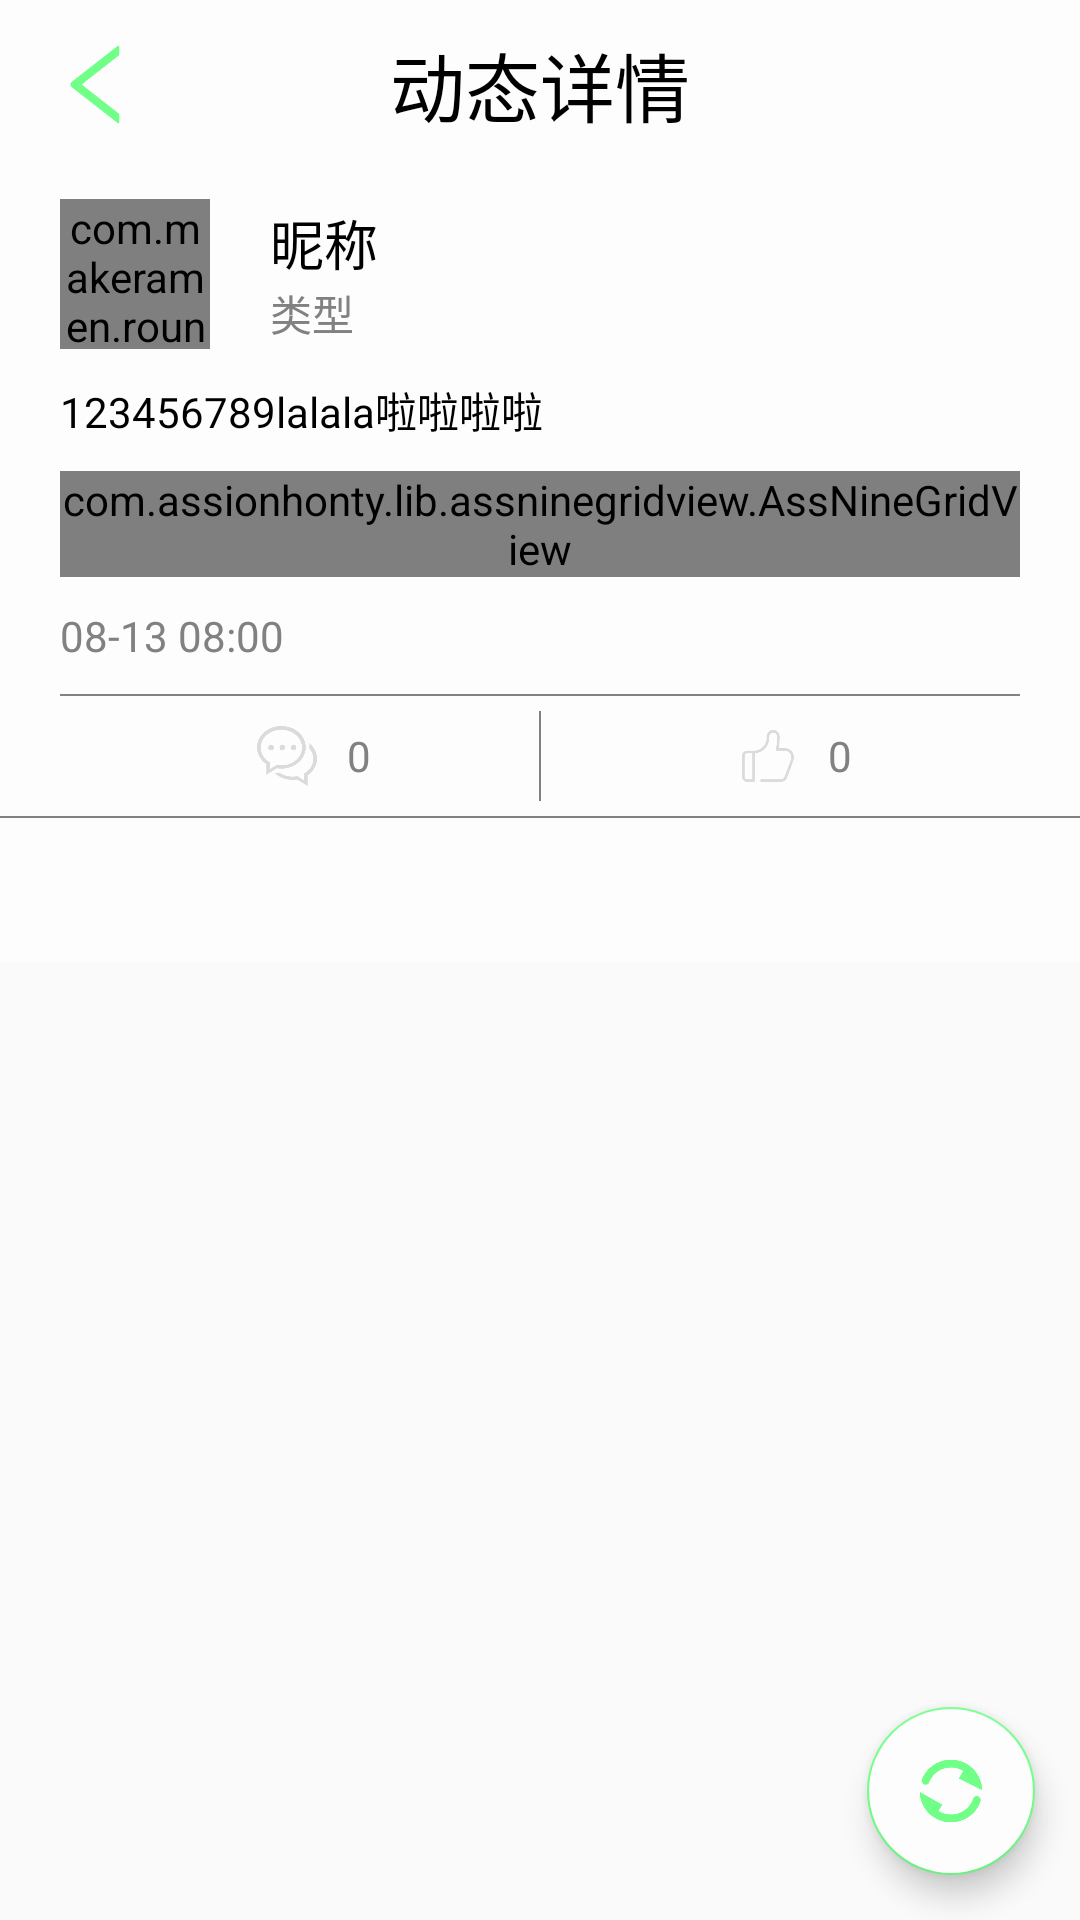

Where to tap for icons on this 1080×1920 app screen, as [x,y]:
back left: [95,84]
comment: [287,756]
refresh: [951,1791]
zan: [768,756]
